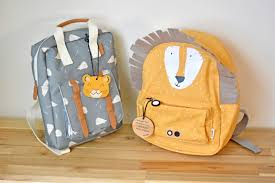bag: (27, 23, 126, 148)
